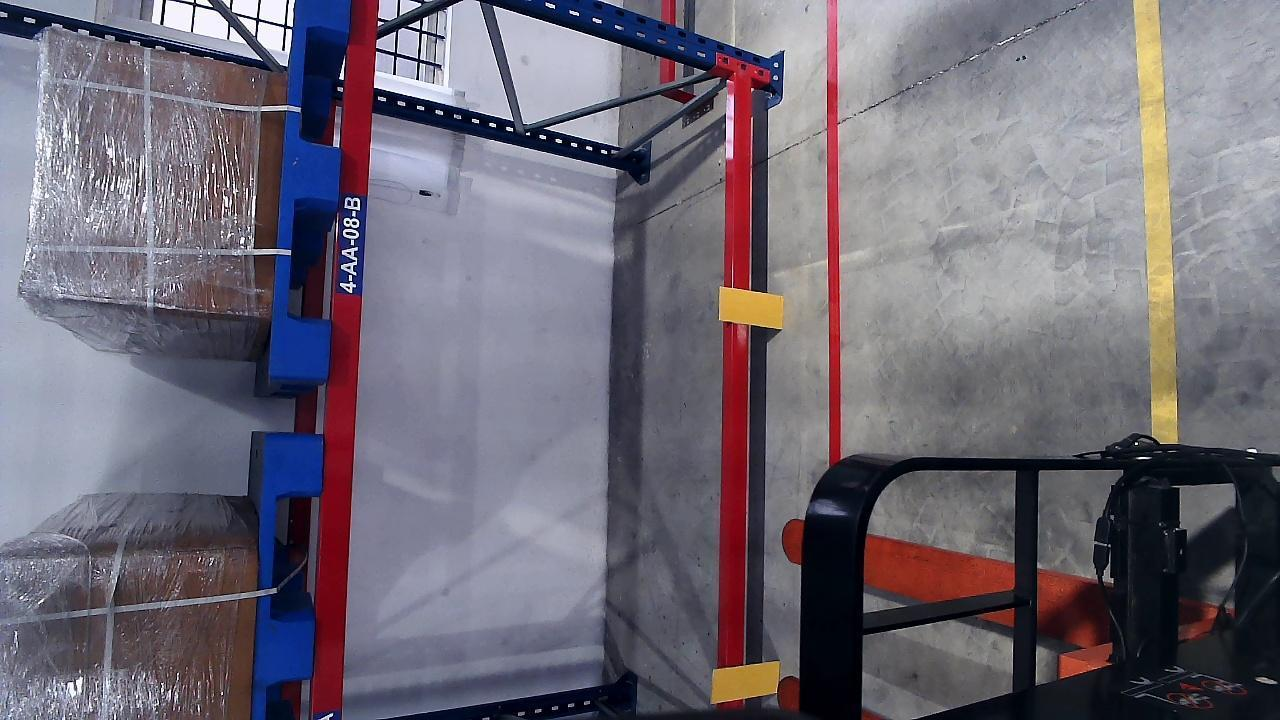red_line: (822, 11, 844, 421)
yellow_line: (1134, 0, 1180, 440)
